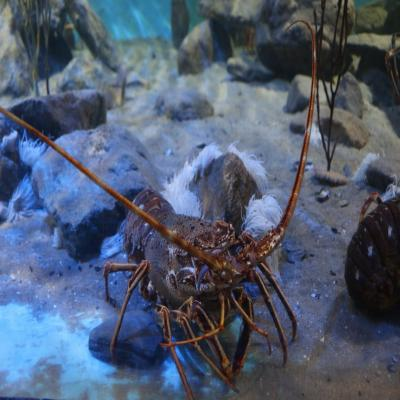lobster: (121, 187, 253, 355)
